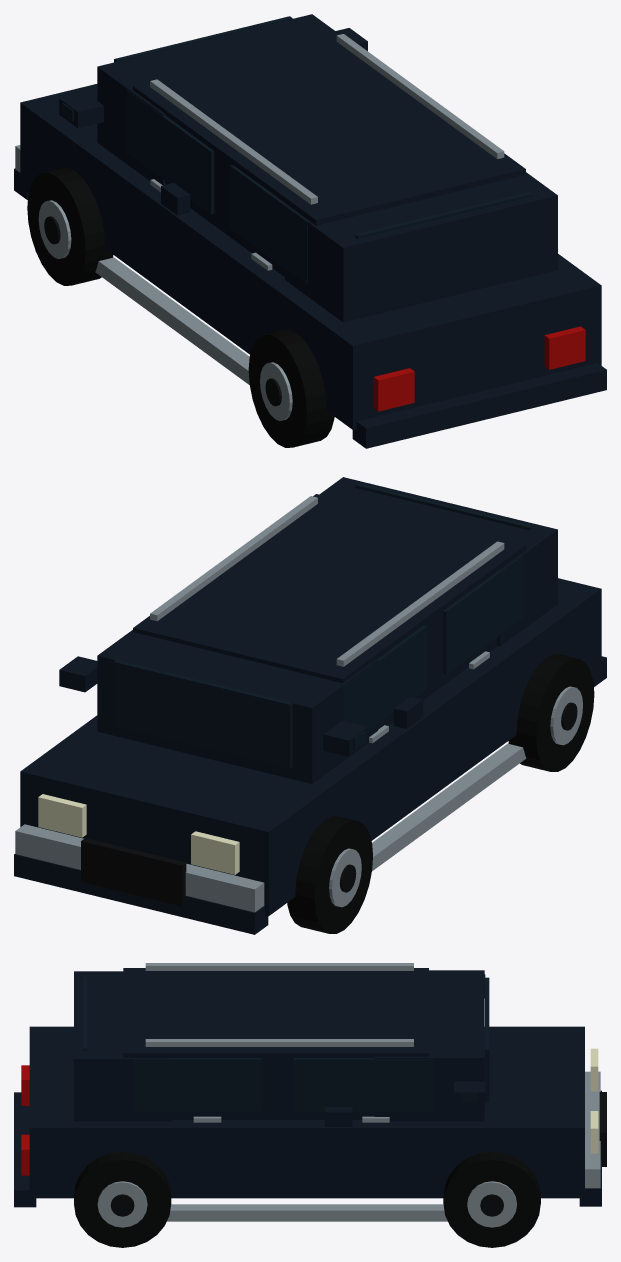
Rendered from service_suv.obj.
3 views of the same model, one above another, from view 1: azimuth 30°, elevation 25°; view 2: azimuth 150°, elevation 25°; view 3: azimuth 270°, elevation 25° (orthographic). The views are drawn at different scales.
Size of the model in its own units: 2.3 by 1.65 by 4.75.
